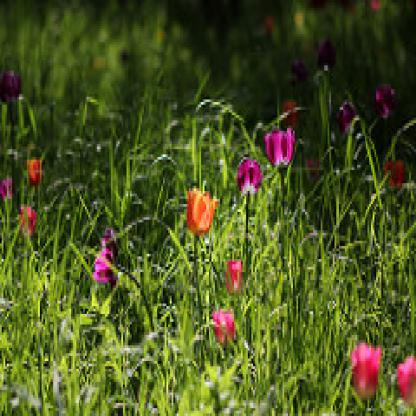TULIP: (18, 98, 410, 388)
